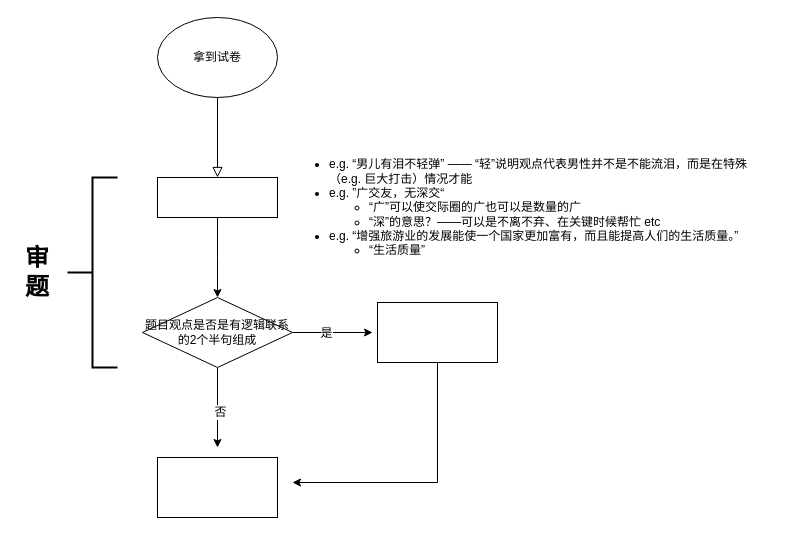
Image size: 794x535. Some labels were removed from this diagram. The box of each missing label's shape, as (x1, y1, x2, y2) in pixels:
厘清句子和句子的逻辑关系: (376, 302, 498, 362)
抓住关键词: (156, 176, 278, 218)
